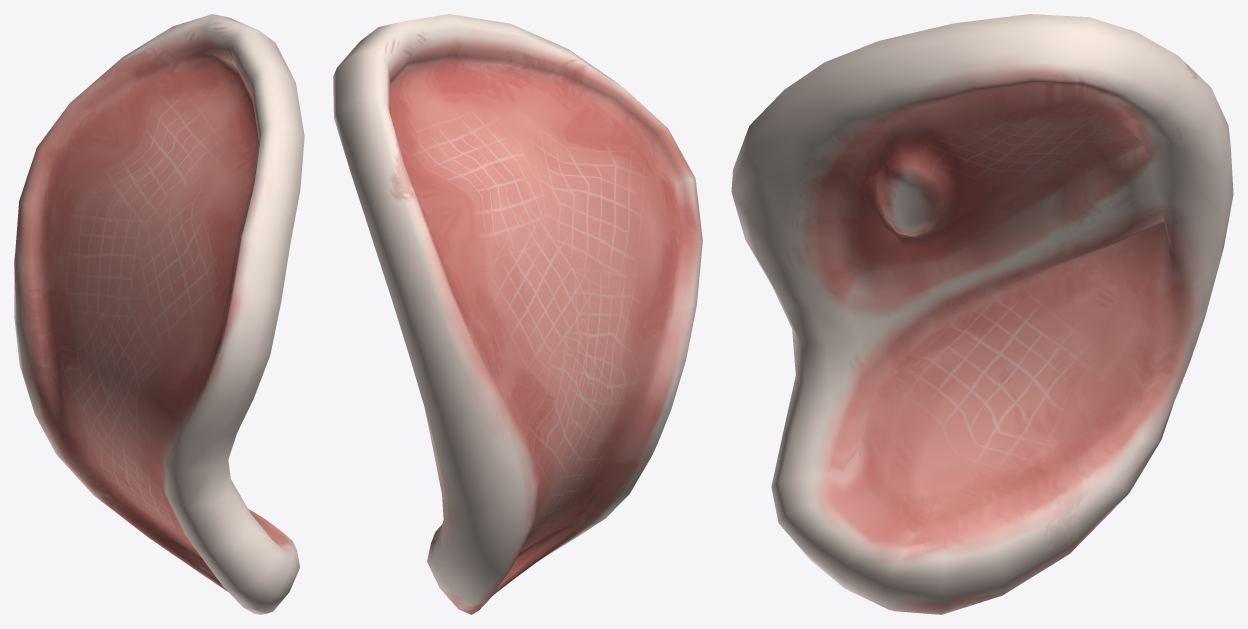
The model's file is Meat.fbx.
3 views of the same model, side by side, from view 1: azimuth 30°, elevation 25°; view 2: azimuth 150°, elevation 25°; view 3: azimuth 270°, elevation 25° (orthographic). The views are drawn at different scales.
Visible parts, largest first — view 1: Cylinder.003; view 2: Cylinder.003; view 3: Cylinder.003.
Boxes of the visible parts, left/top/right/bottom form: Cylinder.003: left=14, top=14, right=304, bottom=614; Cylinder.003: left=333, top=14, right=702, bottom=614; Cylinder.003: left=731, top=14, right=1233, bottom=614.
Bounding box in the file's own units: 20.72 × 51.43 × 37.54.
Materials: 1 (1 with a texture image).
